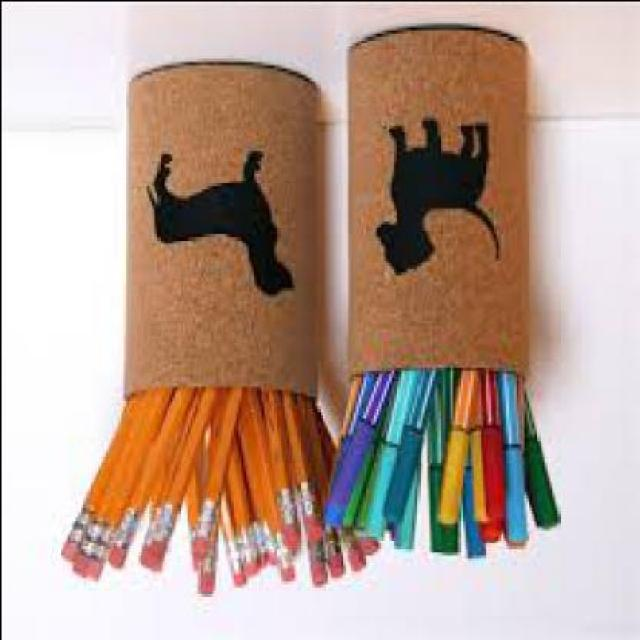BIODEGRADABLE: (296, 481, 322, 519), (196, 503, 219, 539), (153, 509, 176, 545), (117, 512, 135, 554), (99, 525, 115, 567), (145, 503, 158, 551), (275, 542, 296, 569), (276, 497, 298, 521), (239, 538, 261, 560), (84, 526, 99, 557), (258, 526, 273, 554), (227, 549, 239, 576), (74, 519, 85, 547), (207, 552, 216, 576)
